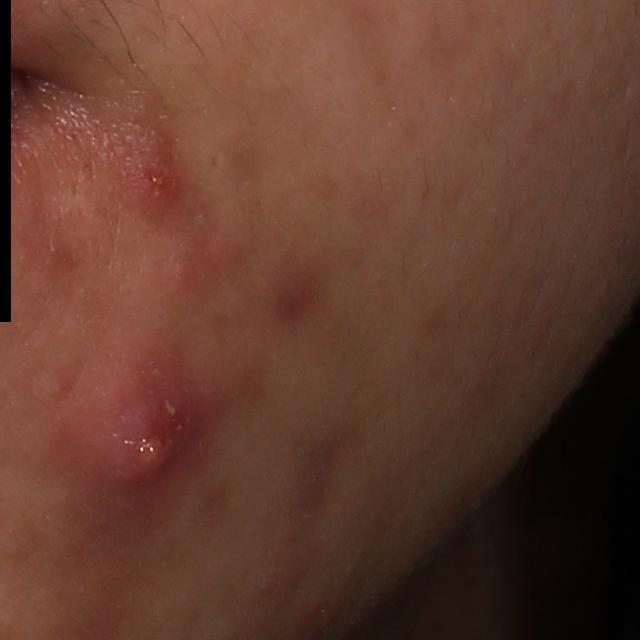nodule: (46, 345, 217, 534)
papule: (120, 144, 185, 218)
